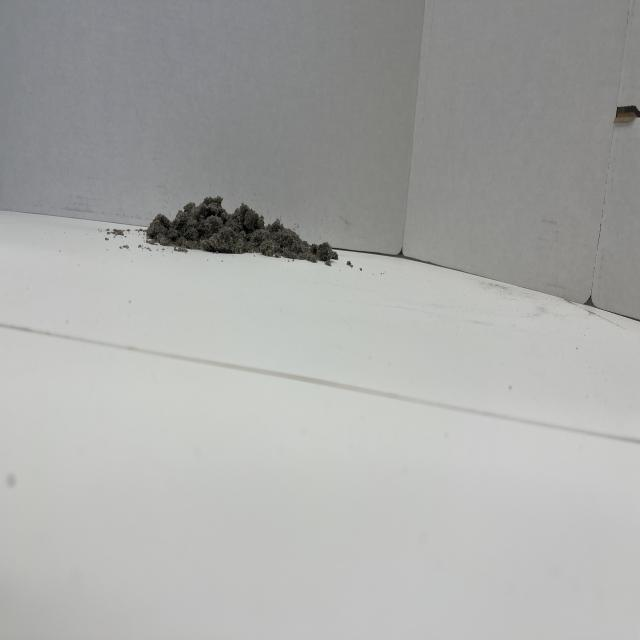sand: (153, 184, 330, 262)
